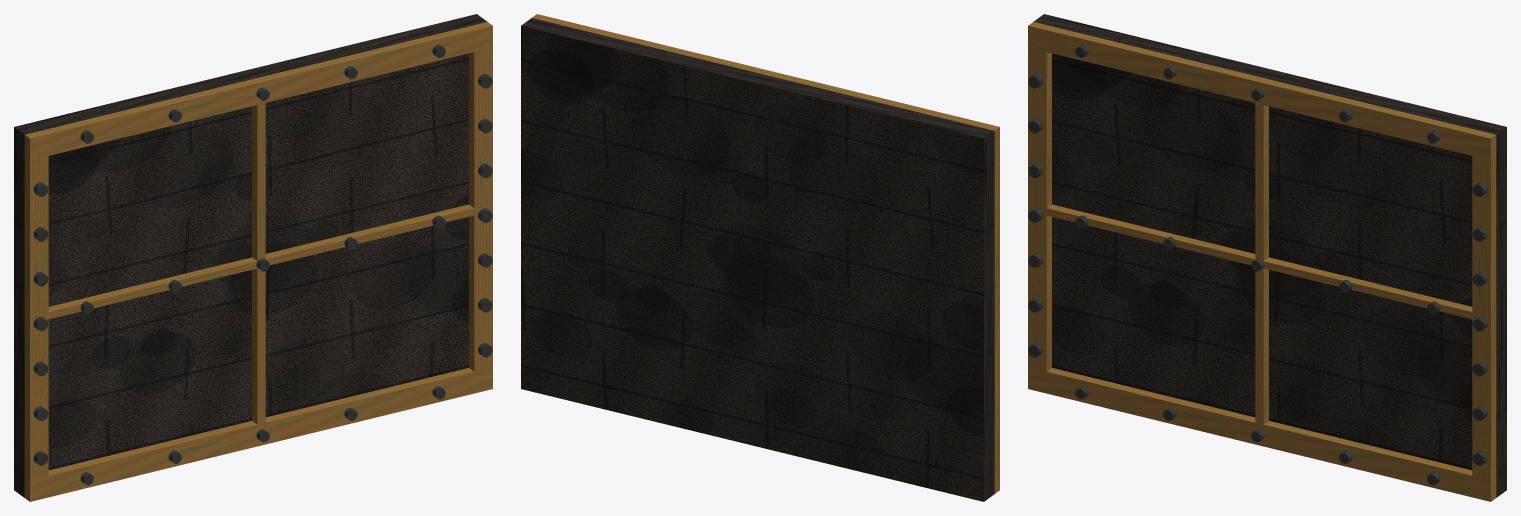
The model's file is SM_WallPanel_RivetedTrim_4m.obj.
3 views of the same model, side by side, from view 1: azimuth 30°, elevation 25°; view 2: azimuth 150°, elevation 25°; view 3: azimuth 330°, elevation 25° (orthographic).
Parts seen in each view (by area): view 1: Masonry_Backplate, Brass_HorizontalTrim, Brass_VerticalTrim, Iron_Rivets; view 2: Masonry_Backplate, Brass_HorizontalTrim, Brass_VerticalTrim; view 3: Masonry_Backplate, Brass_HorizontalTrim, Brass_VerticalTrim, Iron_Rivets.
Boxes of the visible parts, x1,y1,x2,y2 form: Masonry_Backplate: (14,14,487,497); Brass_HorizontalTrim: (24,22,492,501); Brass_VerticalTrim: (24,45,492,482); Iron_Rivets: (33,45,492,485); Masonry_Backplate: (521,18,994,501); Brass_HorizontalTrim: (532,14,999,493); Brass_VerticalTrim: (994,146,999,473); Masonry_Backplate: (1033,14,1506,497); Brass_HorizontalTrim: (1028,22,1496,501); Brass_VerticalTrim: (1028,45,1496,482); Iron_Rivets: (1028,45,1487,485).
Size of the model in its own units: 4 by 3 by 0.29.
3 materials, 3 textured.
